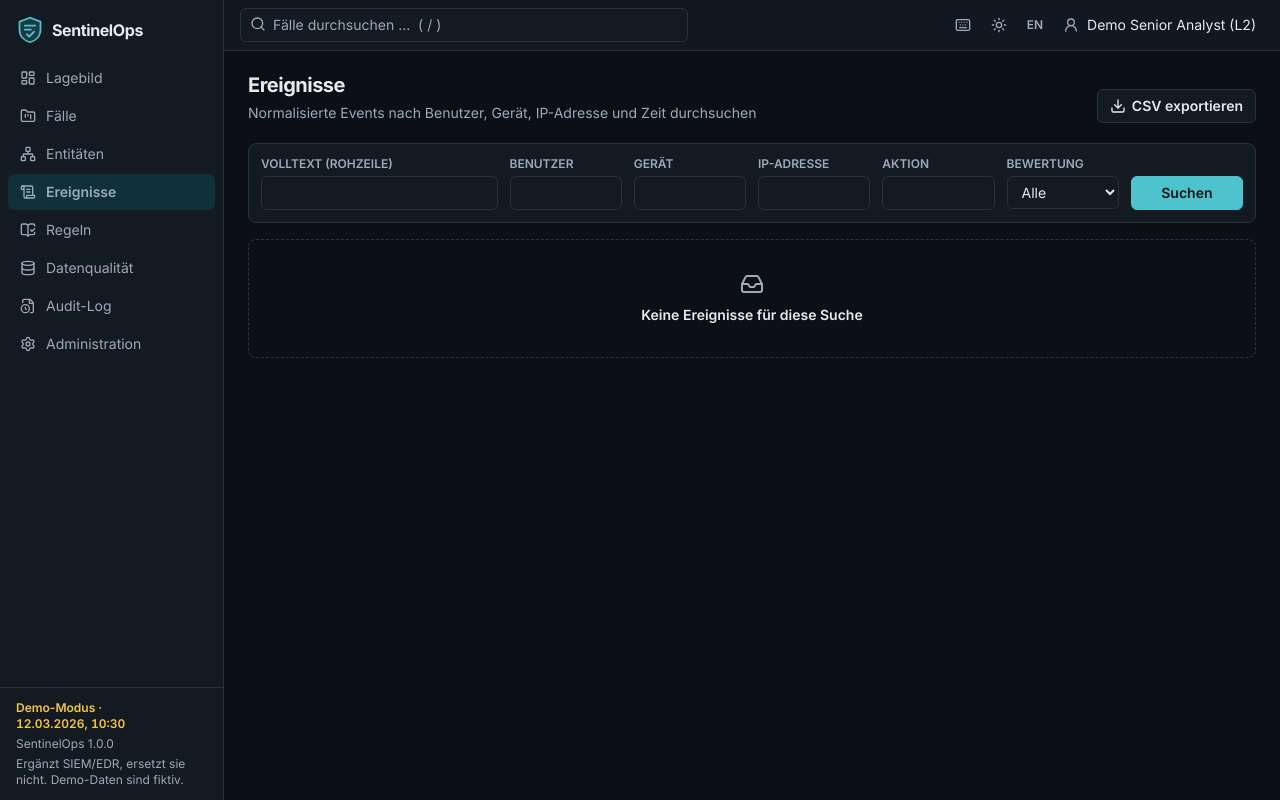
Test: events › shows an empty result and export errors
Expected: the text "Keine Ereignisse für diese Suche" is shown, x1=641 y1=304 x2=863 y2=325
Click the button "CSV exportieren": (1176, 106) x1=1097 y1=89 x2=1256 y2=123
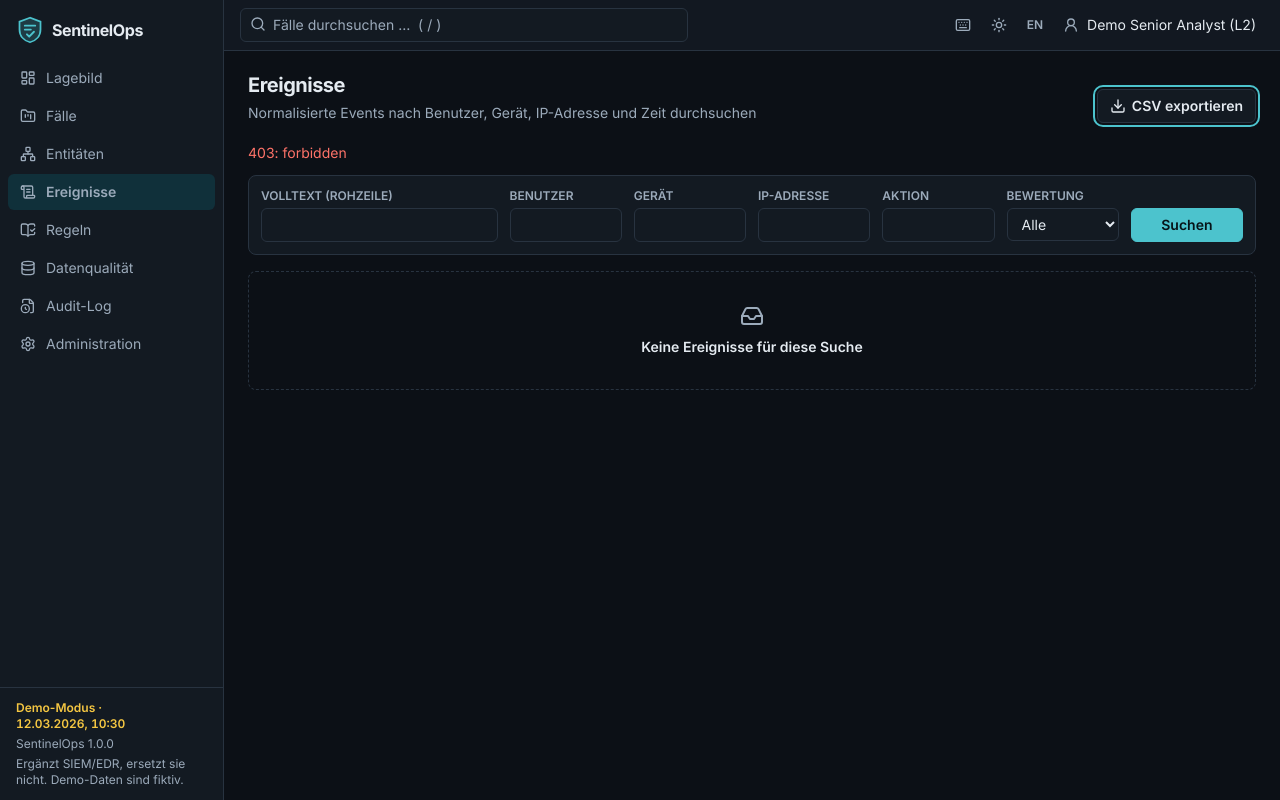
Now the message shows "forbidden", box x1=248 y1=144 x2=347 y2=161
